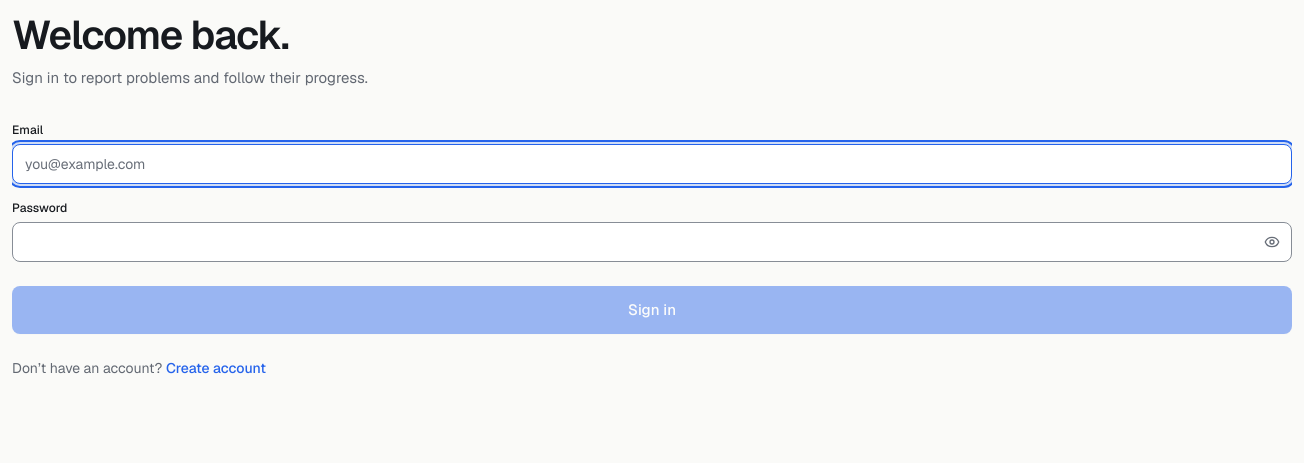
LoginForm › shows the server error without revealing which field was wrong
This screenshot has width=1304, height=463.
Type "citizen@samadhaan.dev" into the field labelled "Email" at (652, 164), box [12, 144, 1292, 184]
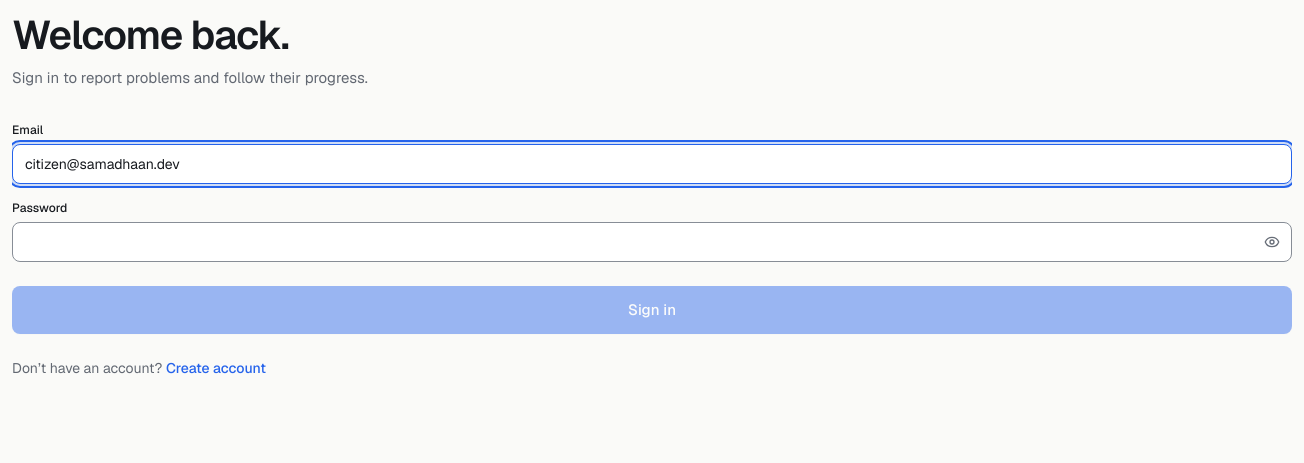
Type "wrong" into the password field labelled "Password" at (652, 242), box [12, 222, 1292, 262]
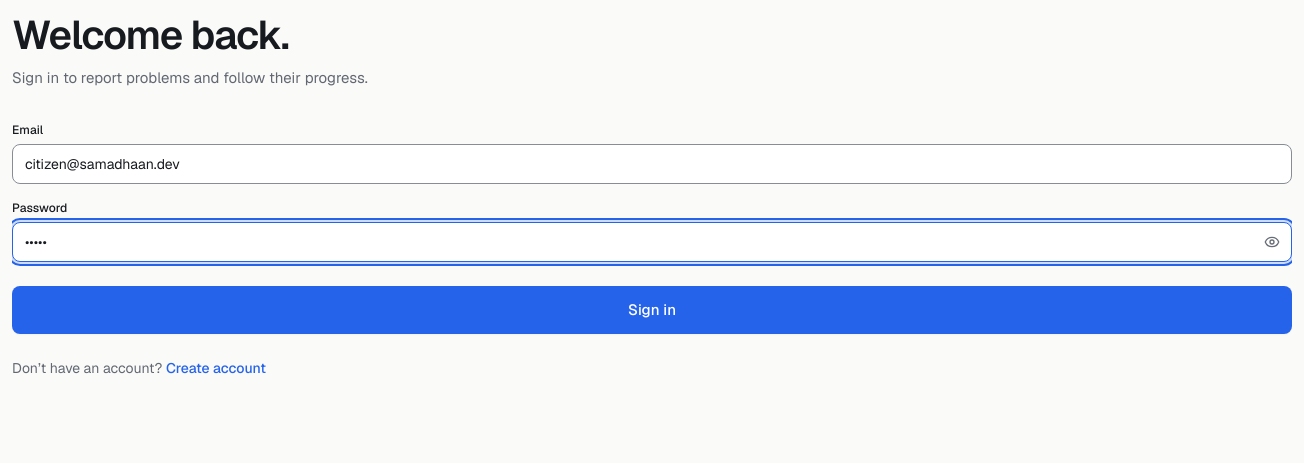
Click the button "Sign in" at (652, 310), box [12, 286, 1292, 334]
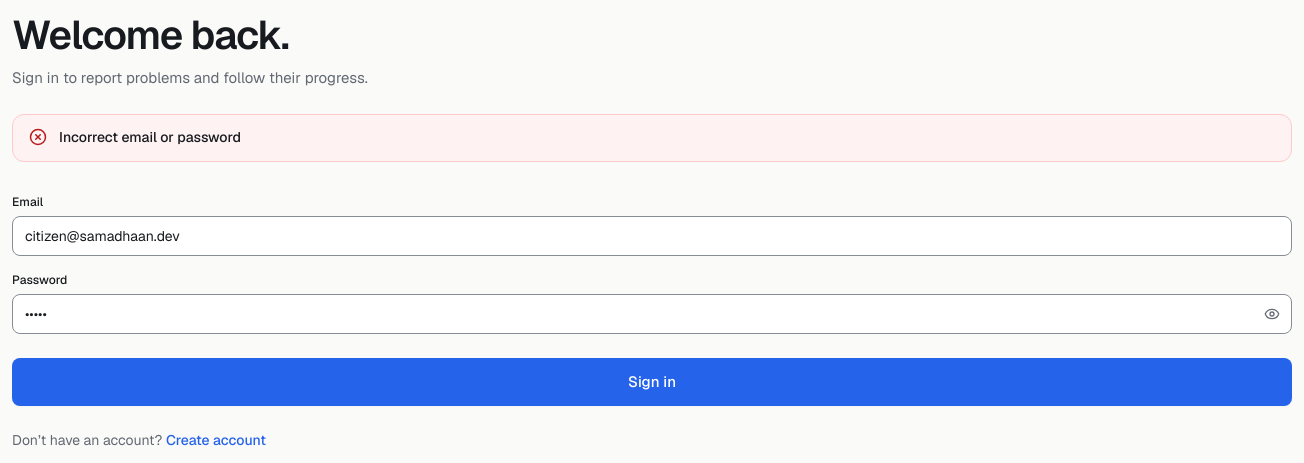
Expected: the text "Incorrect email or password" is shown, [59, 128, 241, 146]
